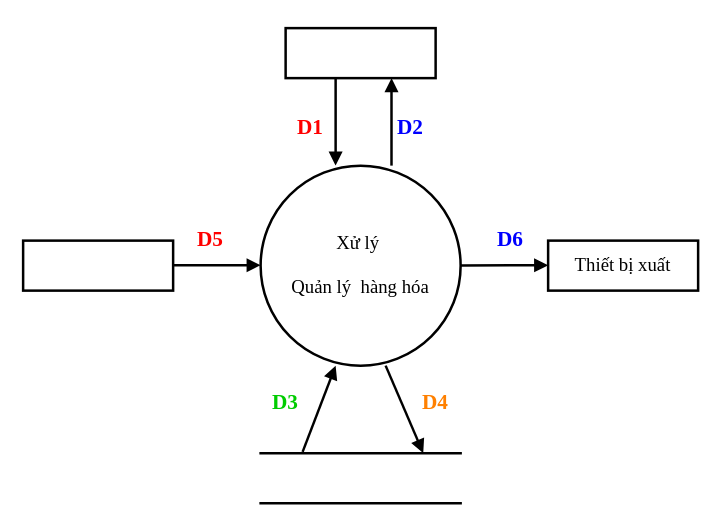
This 720x525 diagram has some shape labels left out. The shapes that lost their labels are listed below. From the top down, each one's box as (x1, y1, x2, y2) in pixels, then its label:
(284, 26, 436, 79): Nhân viên
(21, 239, 174, 291): Thiết bị nhập
